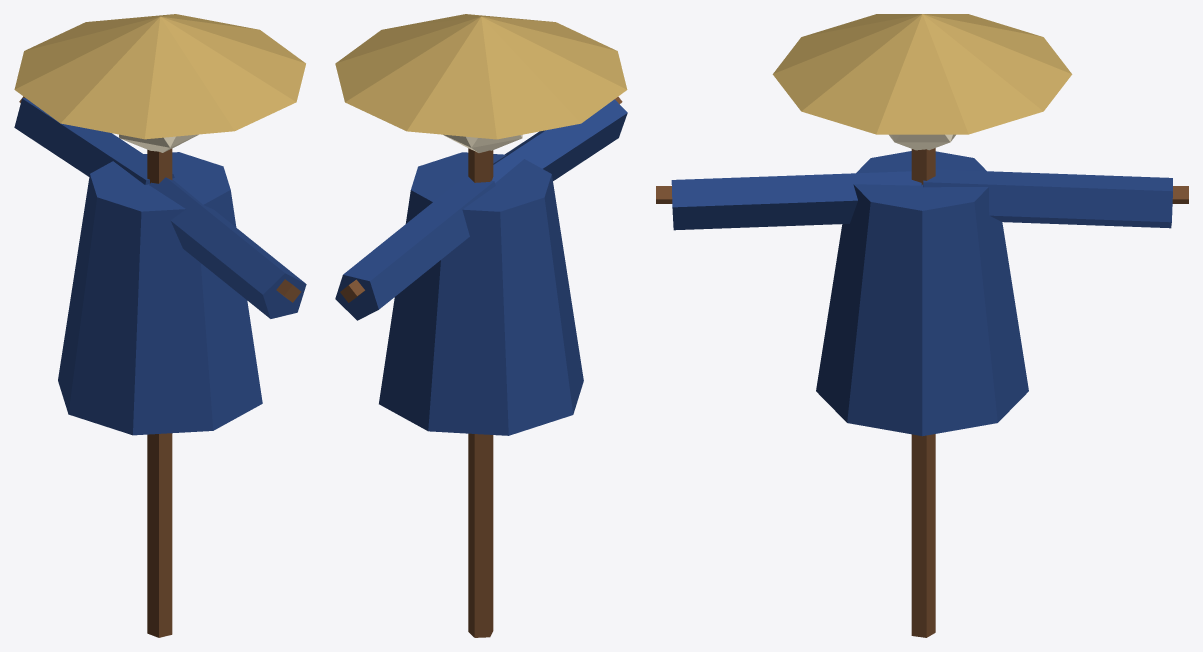
Rendered from kakashi.glb.
The picture shows the model from 3 angles, left to right: view 1: azimuth 30°, elevation 25°; view 2: azimuth 150°, elevation 25°; view 3: azimuth 270°, elevation 25°; orthographic projection.
Visible parts, largest first — view 1: kakashi; view 2: kakashi; view 3: kakashi.
Part boxes in pixels (x1,y1,x2,y2): kakashi: (14,14,306,637); kakashi: (335,14,627,637); kakashi: (656,14,1188,637).
Bounding box in the file's own units: 0.856 × 2.05 × 1.6.
